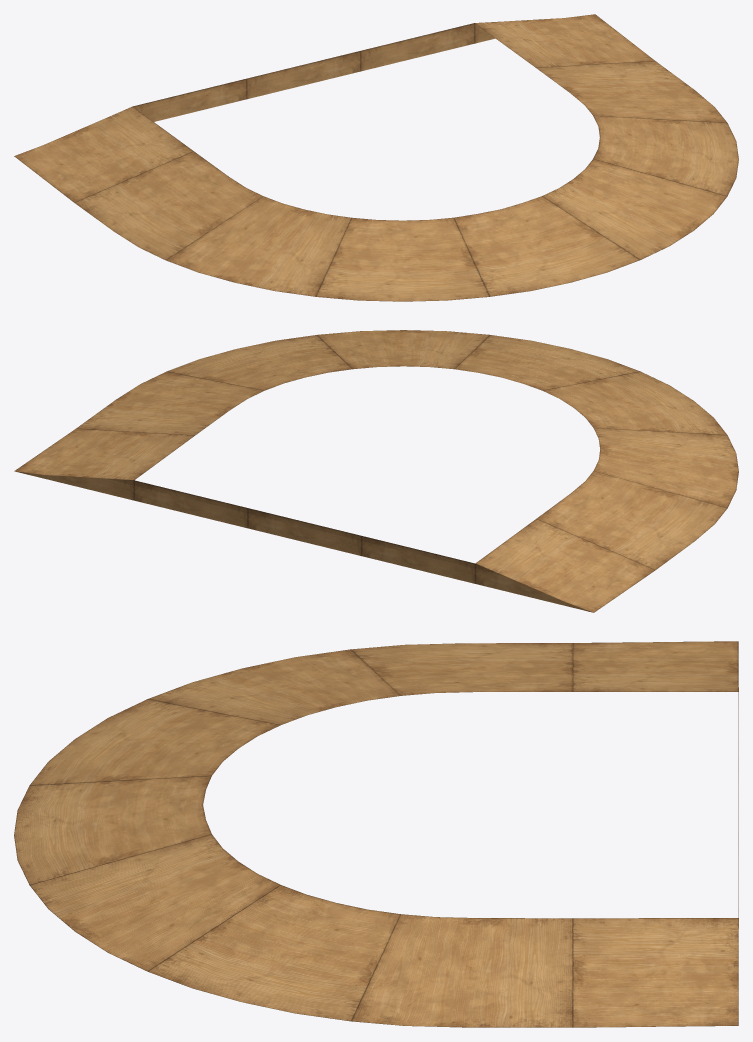
Rendered from art_bridge-piggyBase-woodRamp.fbx.
3 views of the same model, one above another, from view 1: azimuth 30°, elevation 25°; view 2: azimuth 150°, elevation 25°; view 3: azimuth 270°, elevation 25° (orthographic). The views are drawn at different scales.
Visible parts, largest first — view 1: art_bridge-piggyBase-woodRamp; view 2: art_bridge-piggyBase-woodRamp; view 3: art_bridge-piggyBase-woodRamp.
Boxes of the visible parts, x1,y1,x2,y2 form: art_bridge-piggyBase-woodRamp: (14,14,738,301); art_bridge-piggyBase-woodRamp: (14,330,738,612); art_bridge-piggyBase-woodRamp: (14,641,738,1027).
Bounding box in the file's own units: 6811 × 252 × 5416.
Materials: 1 (1 with a texture image).
